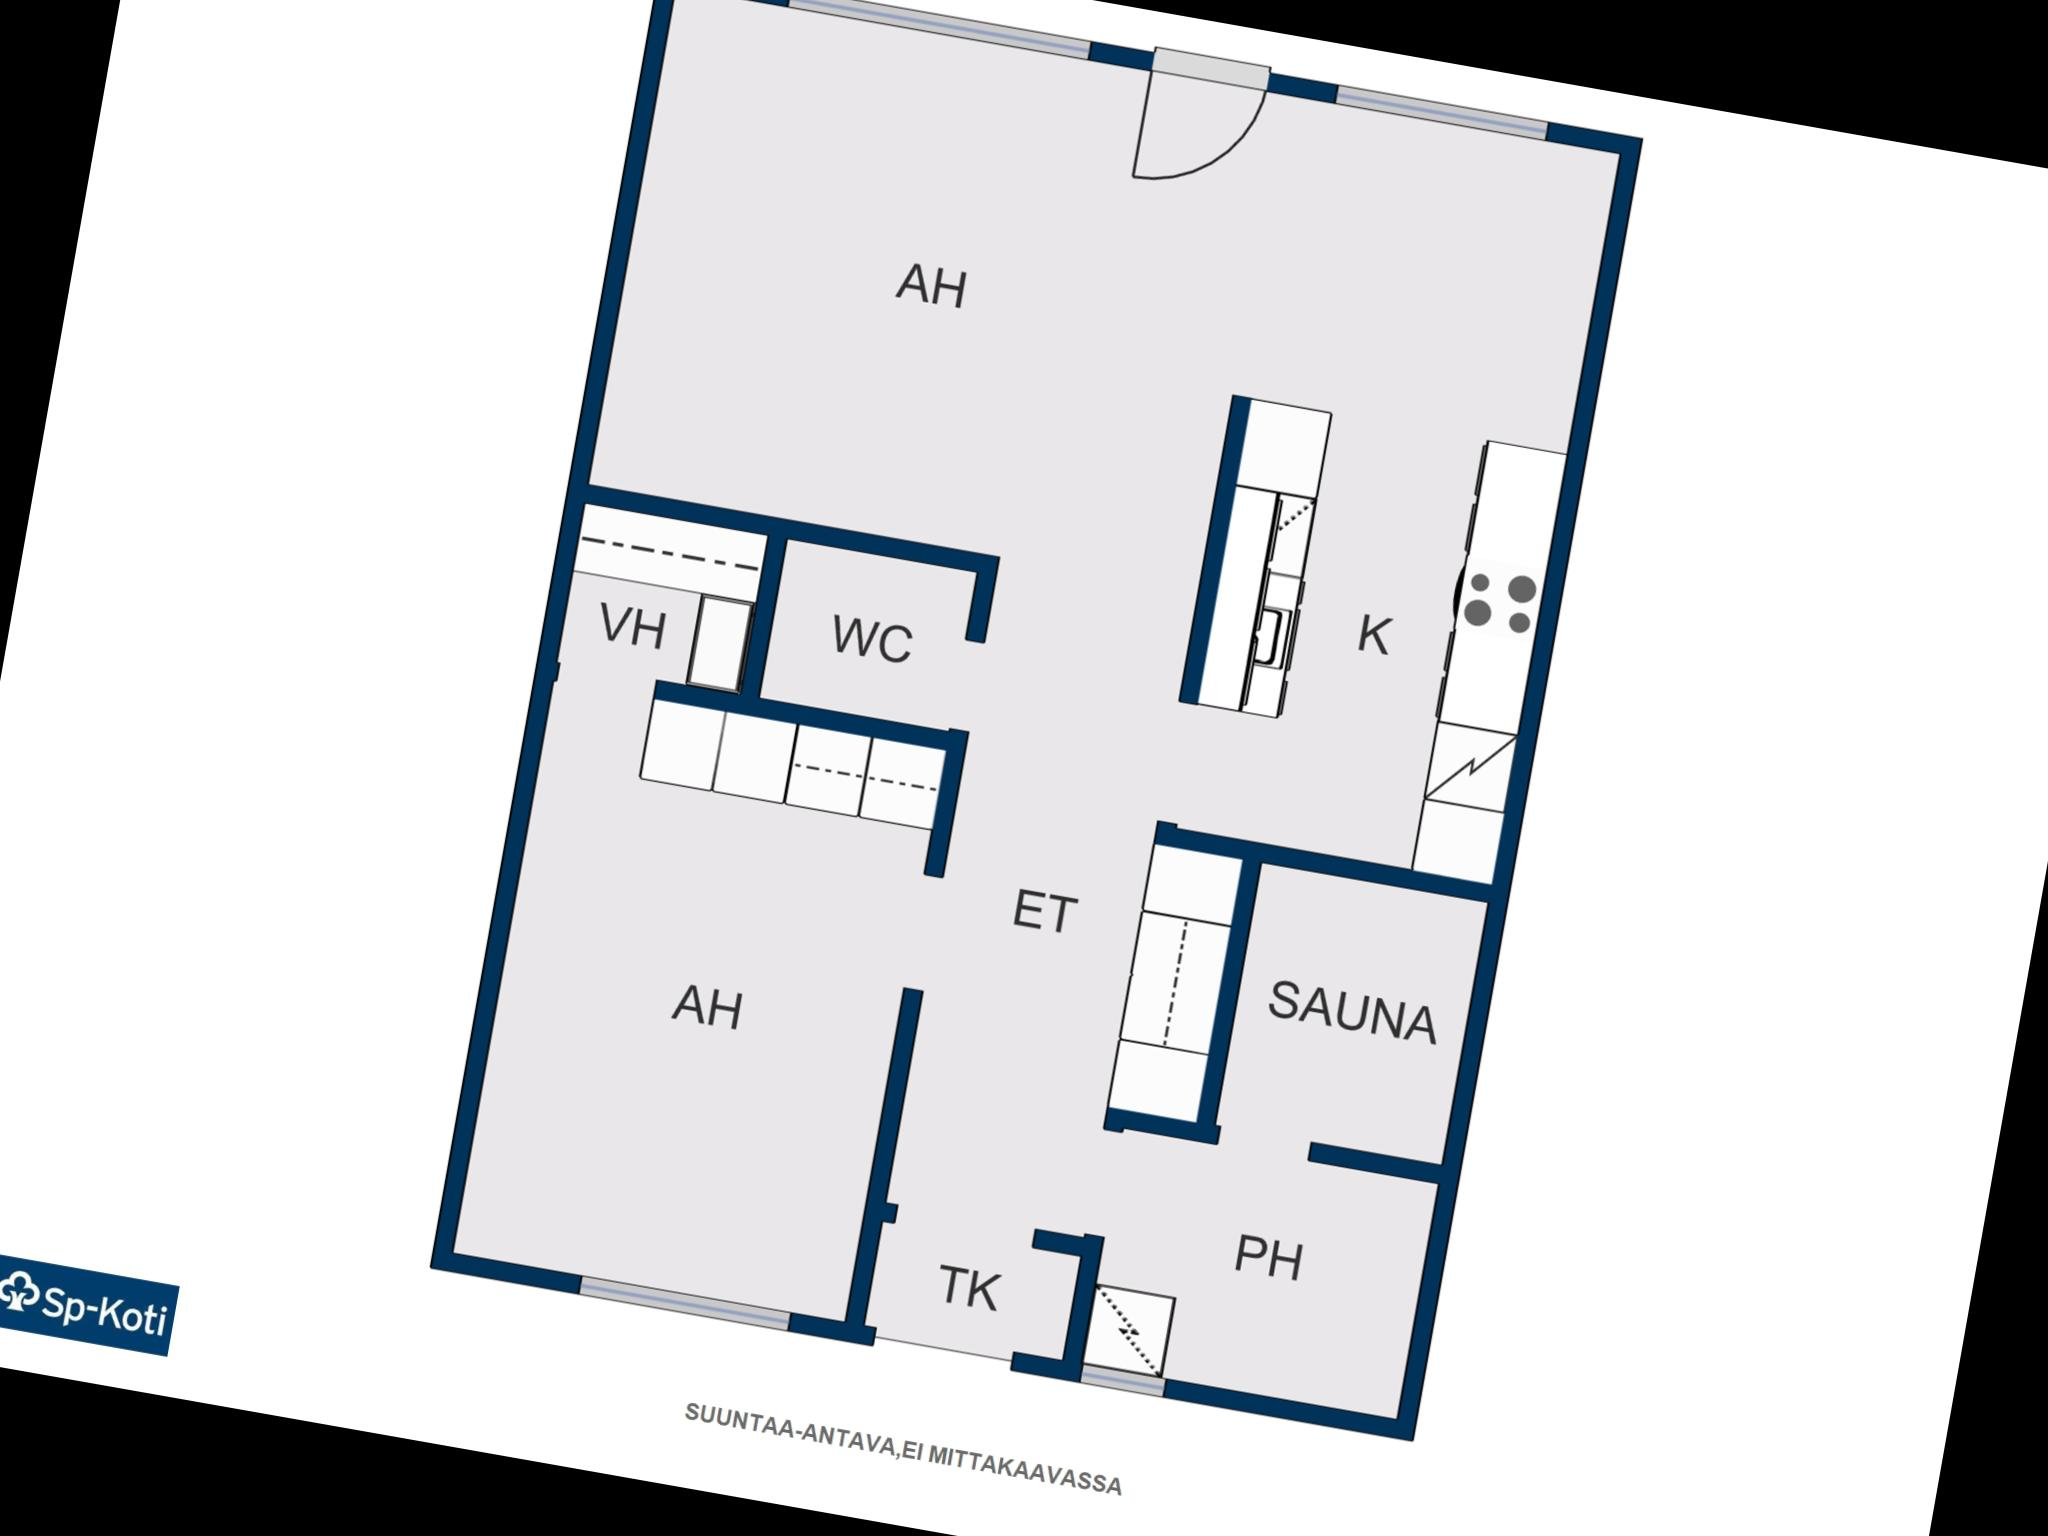door: (1121, 42, 1276, 208)
window: (772, 0, 1109, 79), (1309, 74, 1566, 157), (564, 1262, 808, 1339), (1064, 1357, 1174, 1409)
